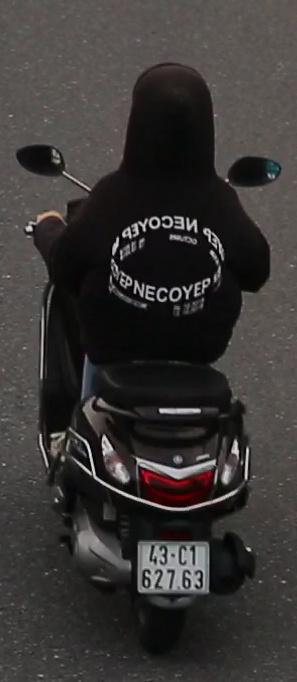LP: (131, 535, 213, 603)
no helmet: (116, 58, 219, 186)
